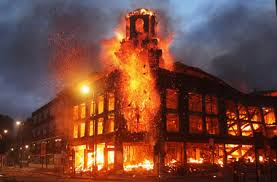fire: (104, 8, 177, 108)
